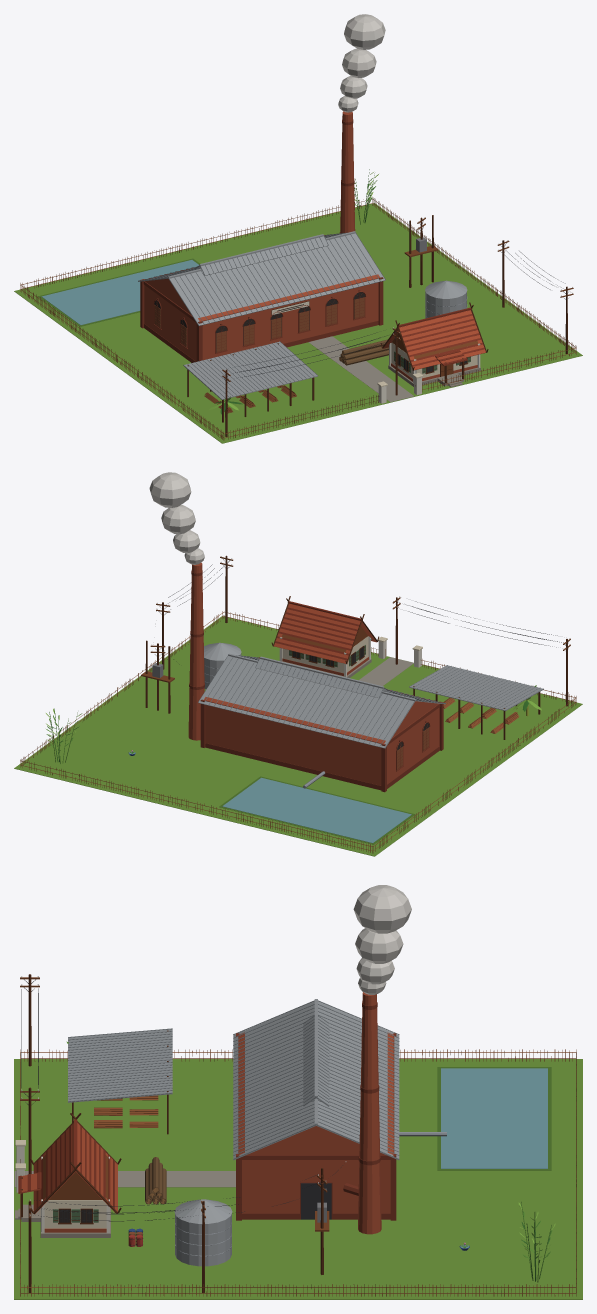
The model's file is power_plant.glb.
3 renders of one model, top to bottom at view 1: azimuth 30°, elevation 25°; view 2: azimuth 150°, elevation 25°; view 3: azimuth 270°, elevation 25°, orthographic. The views are drawn at different scales.
Parts seen in each view (by area): view 1: body, windows; view 2: body; view 3: body.
Boxes of the visible parts, x1,y1,x2,y2 form: body: [14, 14, 582, 443]; windows: [154, 292, 466, 372]; body: [14, 472, 582, 856]; body: [14, 885, 582, 1299].
Size of the model in its own units: 47.9 by 33.09 by 47.9.
